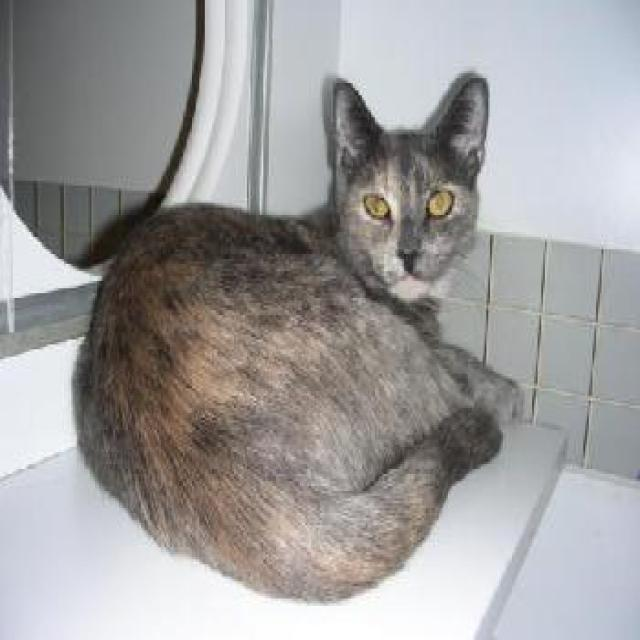cats: (72, 75, 528, 604)
